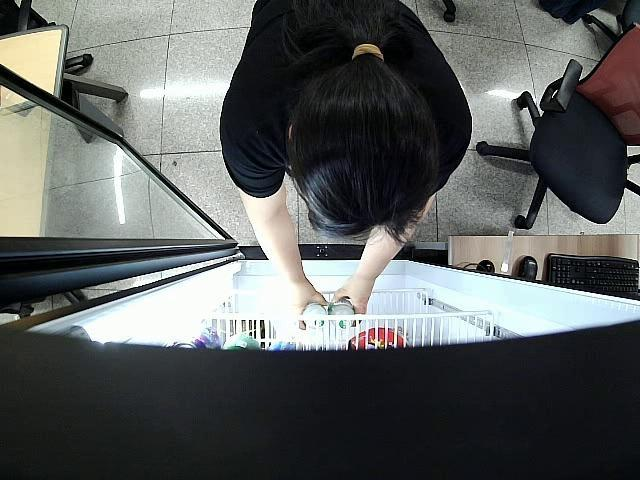18_trevi: (328, 298, 357, 332), (302, 301, 329, 330)
